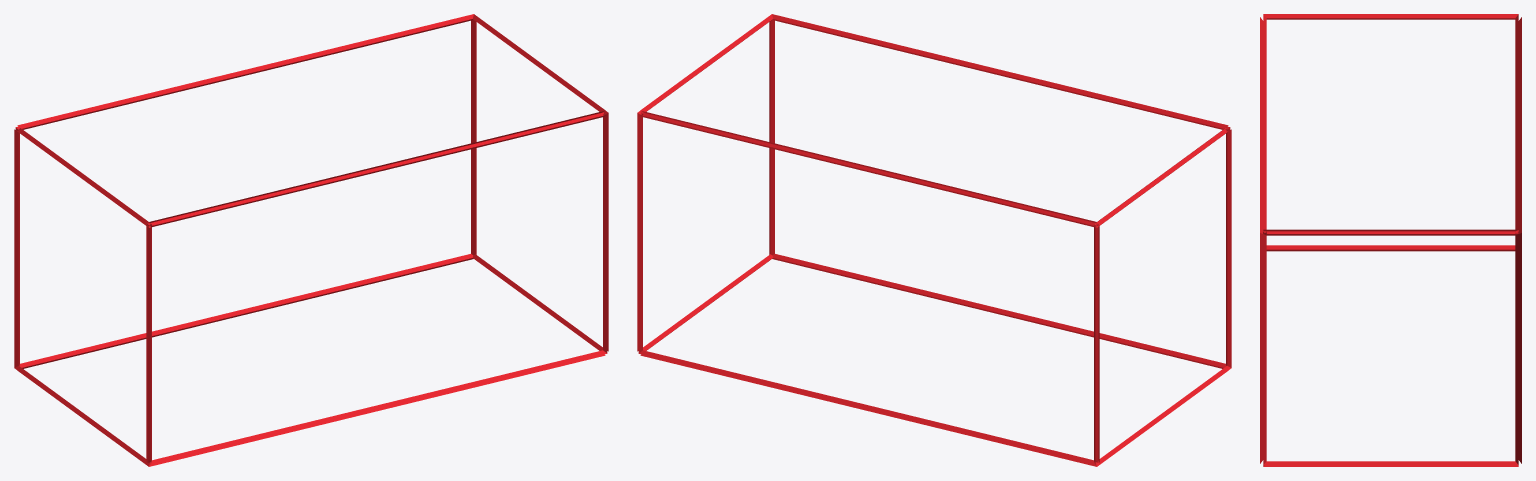
File: Rusuk Balok.fbx
3 views of the same model, side by side, from view 1: azimuth 30°, elevation 25°; view 2: azimuth 150°, elevation 25°; view 3: azimuth 270°, elevation 25° (orthographic). The views are drawn at different scales.
Visible parts, largest first — view 1: Cube.001, Cube.005, Cube.004, Cube.003, Cube.002, Cube.006; view 2: Cube.004, Cube.001, Cube.006, Cube.003, Cube.005, Cube.002; view 3: Cube.001, Cube.002, Cube.004, Cube.005, Cube.003, Cube.006.
Boxes of the visible parts, x1,y1,x2,y2 form: Cube.001: [17, 14, 605, 227]; Cube.005: [147, 112, 607, 464]; Cube.004: [15, 19, 475, 367]; Cube.003: [14, 128, 151, 464]; Cube.002: [471, 20, 608, 351]; Cube.006: [18, 257, 605, 466]; Cube.004: [638, 112, 1098, 464]; Cube.001: [640, 14, 1228, 227]; Cube.006: [640, 254, 1227, 466]; Cube.003: [1094, 128, 1231, 464]; Cube.005: [770, 19, 1230, 365]; Cube.002: [637, 19, 774, 351]; Cube.001: [1263, 14, 1518, 233]; Cube.002: [1263, 231, 1518, 465]; Cube.004: [1515, 17, 1521, 463]; Cube.005: [1260, 17, 1266, 463]; Cube.003: [1266, 18, 1515, 249]; Cube.006: [1263, 245, 1518, 466].
Bounding box in the file's own units: 405 × 205 × 205.
